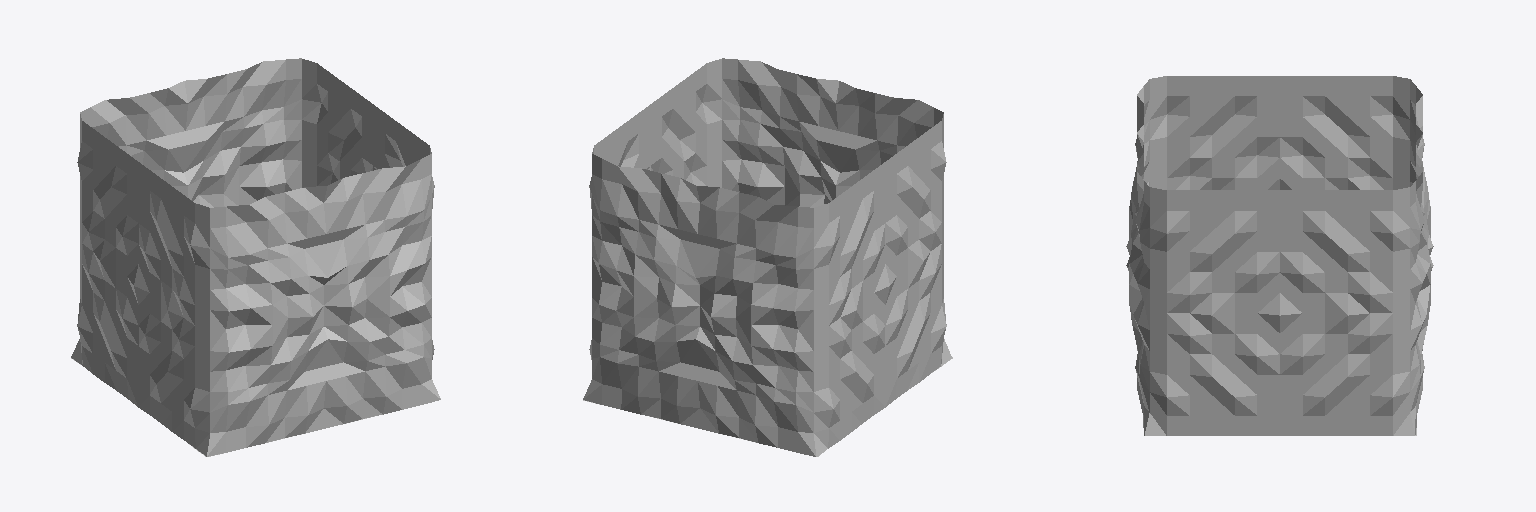
The model's file is 0000_bot.obj.
The picture shows the model from 3 angles: view 1: azimuth 30°, elevation 25°; view 2: azimuth 150°, elevation 25°; view 3: azimuth 270°, elevation 25°; orthographic projection.
Visible parts, largest first — view 1: tile_0001_bot_Cube.001; view 2: tile_0001_bot_Cube.001; view 3: tile_0001_bot_Cube.001.
Boxes of the visible parts, box(x1,y1,x2,y2) form: tile_0001_bot_Cube.001: box(71, 58, 440, 456); tile_0001_bot_Cube.001: box(583, 58, 952, 456); tile_0001_bot_Cube.001: box(1126, 76, 1433, 435).
Size of the model in its own units: 1.04 by 1 by 1.13.